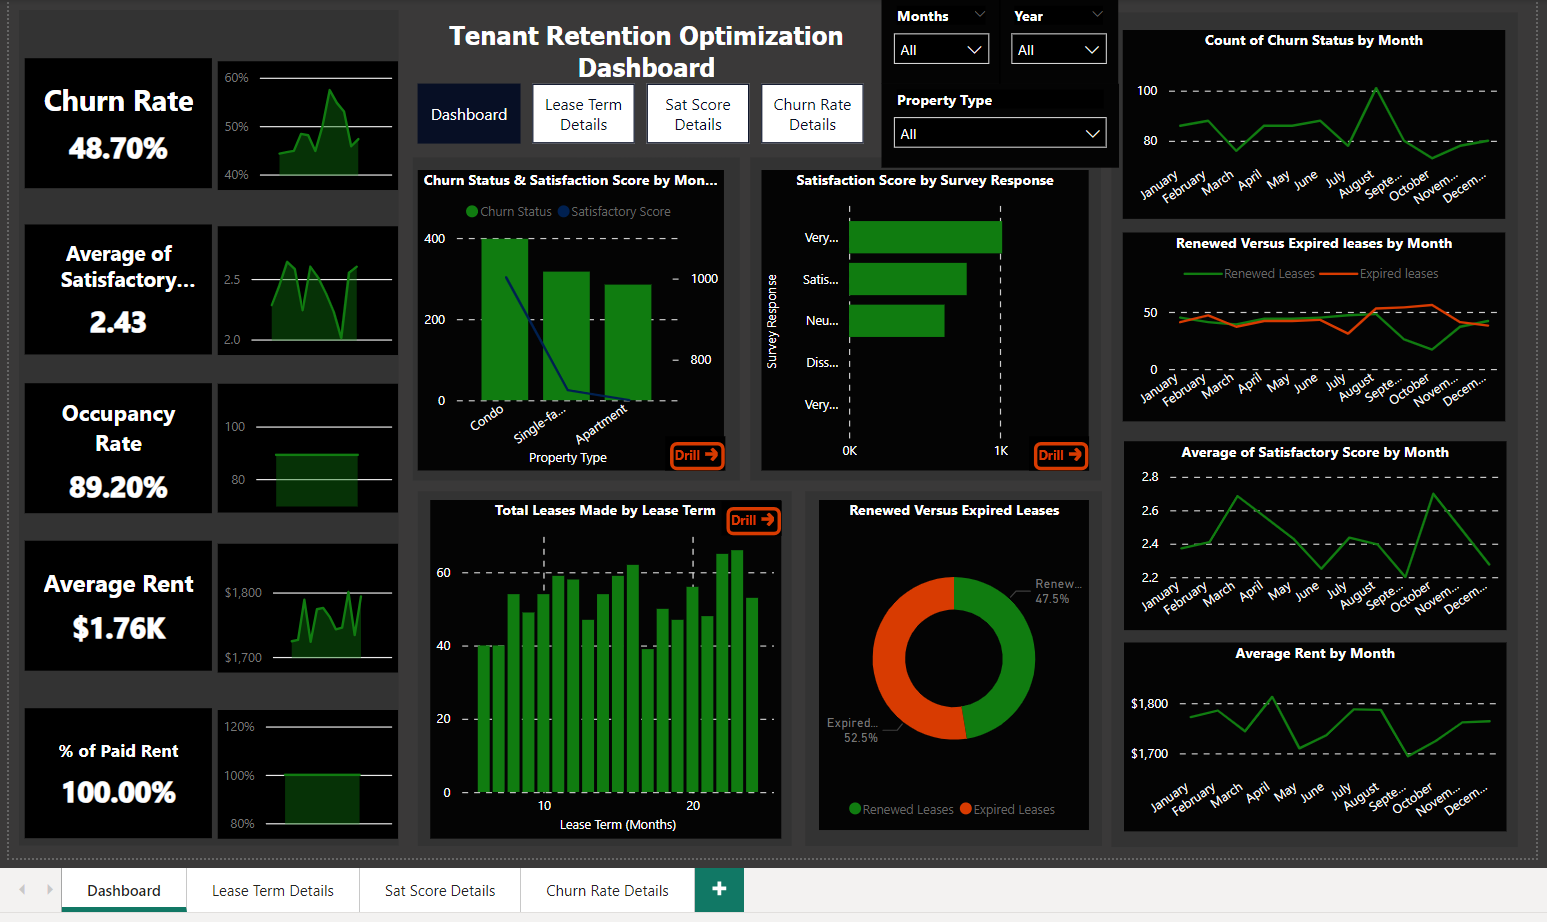

The page's visual inventory and layout, read from the dashboard file:
{"tool":"powerbi","page":{"name":"Dashboard","canvas":[1280,720],"ordinal":0},"visuals":[{"type":"shape","box":[8.1,8.1,318.6,701.2],"z":0},{"type":"shape","box":[924.4,10.5,340.7,700],"z":1000},{"type":"shape","box":[343,411.6,314,297.7],"z":2000},{"type":"shape","box":[667.4,411.6,248.8,297.7],"z":3000},{"type":"shape","box":[622.1,132.6,294.2,270.9],"z":4000},{"type":"shape","box":[338.4,132.6,274.4,270.9],"z":5000},{"type":"pageNavigator","box":[343.3,70.2,376,50],"z":6000},{"type":"textbox","box":[338.5,11.5,392.3,74],"z":7000},{"type":"cardVisual","fields":{"Data":["Measure Table.Churn Rate"]},"box":[8.1,44.2,167.4,119.8],"z":8000},{"type":"cardVisual","title":"Average Satisfaction Score","fields":{"Data":["Avg(tenant_information and feedback.Satisfactory Score)"]},"box":[8.1,183.7,167.4,119.8],"z":9000},{"type":"cardVisual","title":"Average Satisfaction Score","fields":{"Data":["Measure Table.Occupancy Rate"]},"box":[8.1,316.3,167.4,119.8],"z":10000},{"type":"cardVisual","title":"Average Satisfaction Score","fields":{"Data":["Measure Table.Average Rent"]},"box":[8.1,448.8,167.4,119.8],"z":11000},{"type":"cardVisual","title":"Average Satisfaction Score","fields":{"Data":["Measure Table.% of Unpaid Rent"]},"box":[8.1,589.5,167.4,119.8],"z":12000},{"type":"lineChart","title":"Count of Churn Status by Month","fields":{"Y":["CountNonNull(Full Data.Churn Status)"],"Category":["End Date.MonthName"]},"box":[933.7,25.6,320.9,158.1],"z":13000},{"type":"lineChart","title":"Renewed Versus Expired leases by Month","fields":{"Category":["End Date.MonthName"],"Y":["Measure Table.Active Leases","Measure Table.Churned Leases"]},"box":[933.7,195.3,320.9,158.1],"z":14000},{"type":"lineChart","title":"Average of Satisfactory Score by Month","fields":{"Y":["Avg(tenant_information and feedback.Satisfactory Score)"],"Category":["End Date.MonthName"]},"box":[934.9,369.8,320.9,158.1],"z":15000},{"type":"lineChart","title":"Average Rent by Month","fields":{"Y":["Measure Table.Average Rent"],"Category":["End Date.MonthName"]},"box":[934.9,538.4,320.9,158.1],"z":16000},{"type":"lineStackedColumnComboChart","title":"Churn Status & Satisfaction Score by Month","fields":{"Category":["property_information.Property Type"],"Y":["CountNonNull(Full Data.Churn Status)"],"Y2":["Sum(tenant_information and feedback.Satisfactory Score)"]},"box":[343,143,257,252.3],"z":17000},{"type":"clusteredBarChart","title":"Satisfaction Score by Survey Response","fields":{"Y":["Sum(tenant_information and feedback.Satisfactory Score)"],"Category":["tenant_information and feedback.Survey Response"]},"box":[631.4,143,274.4,252.3],"z":18000},{"type":"clusteredColumnChart","title":"Total Leases Made by Lease Term","fields":{"Y":["CountNonNull(Full Data.Lease ID)"],"Category":["Full Data.Lease Term (Months)"]},"box":[353.5,419.8,294.2,283.7],"z":19000},{"type":"donutChart","title":"Renewed Versus Expired Leases","fields":{"Y":["Measure Table.Active Leases","Measure Table.Churned Leases"]},"box":[679.1,419.8,226.7,276.7],"z":20000},{"type":"areaChart","fields":{"Category":["Start Date.Month"],"Y":["Avg(tenant_information and feedback.Satisfactory Score)"]},"box":[175.6,189.5,151.2,108.1],"z":21000},{"type":"areaChart","fields":{"Category":["Start Date.Month"],"Y":["Avg(property_information.Historical Occupancy Rate (%))"]},"box":[175.6,322.1,151.2,108.1],"z":22000},{"type":"areaChart","fields":{"Category":["Start Date.Month"],"Y":["Measure Table.Average Rent"]},"box":[175.6,455.8,151.2,108.1],"z":23000},{"type":"areaChart","fields":{"Category":["Start Date.Month"],"Y":["Measure Table.% of Paid Rent"]},"box":[175.6,595.4,151.2,108.1],"z":24000},{"type":"areaChart","fields":{"Category":["Start Date.Month"],"Y":["Measure Table.Churn Rate"]},"box":[175.6,51.2,151.2,108.1],"z":25000},{"type":"actionButton","title":"Drill","box":[597.1,420.2,50,28.8],"z":28250},{"type":"actionButton","title":"Drill","box":[855.8,366.3,50,28.8],"z":28500},{"type":"actionButton","title":"Drill","box":[550,366.3,50,28.8],"z":29000},{"type":"slicer","title":"Count of Churn Status by Month","fields":{"Values":["End Date.Year"]},"box":[830.8,0,100,70.2],"z":29002},{"type":"slicer","title":"Count of Churn Status by Month","fields":{"Values":["property_information.Property Type"]},"box":[731.7,70.2,199,70.2],"z":29003},{"type":"slicer","title":"Count of Churn Status by Month","fields":{"Values":["End Date.MonthName"]},"box":[731.7,0,100,70.2],"z":29004}]}

Visuals, with their boxes on the page's 1280x720 design canvas (x1, y1, x2, y2). These are canvas units, not pixel positions in the 1547x922 screenshot, which may show the page scaled, cropped or inside an application window:
shape: 8:8:327:709
shape: 924:10:1265:710
shape: 343:412:657:709
shape: 667:412:916:709
shape: 622:133:916:404
shape: 338:133:613:404
pageNavigator: 343:70:719:120
textbox: 338:12:731:86
cardVisual - Measure Table.Churn Rate: 8:44:176:164
"Average Satisfaction Score" cardVisual: 8:184:176:304
"Average Satisfaction Score" cardVisual: 8:316:176:436
"Average Satisfaction Score" cardVisual: 8:449:176:569
"Average Satisfaction Score" cardVisual: 8:590:176:709
"Count of Churn Status by Month" lineChart: 934:26:1255:184
"Renewed Versus Expired leases by Month" lineChart: 934:195:1255:353
"Average of Satisfactory Score by Month" lineChart: 935:370:1256:528
"Average Rent by Month" lineChart: 935:538:1256:696
"Churn Status & Satisfaction Score by Month" lineStackedColumnComboChart: 343:143:600:395
"Satisfaction Score by Survey Response" clusteredBarChart: 631:143:906:395
"Total Leases Made by Lease Term" clusteredColumnChart: 354:420:648:704
"Renewed Versus Expired Leases" donutChart: 679:420:906:696
areaChart - Start Date.Month x Avg(tenant_information and feedback.Satisfactory Score): 176:190:327:298
areaChart - Start Date.Month x Avg(property_information.Historical Occupancy Rate (%)): 176:322:327:430
areaChart - Start Date.Month x Measure Table.Average Rent: 176:456:327:564
areaChart - Start Date.Month x Measure Table.% of Paid Rent: 176:595:327:704
areaChart - Start Date.Month x Measure Table.Churn Rate: 176:51:327:159
"Drill" actionButton: 597:420:647:449
"Drill" actionButton: 856:366:906:395
"Drill" actionButton: 550:366:600:395
"Count of Churn Status by Month" slicer: 831:0:931:70
"Count of Churn Status by Month" slicer: 732:70:931:140
"Count of Churn Status by Month" slicer: 732:0:832:70
